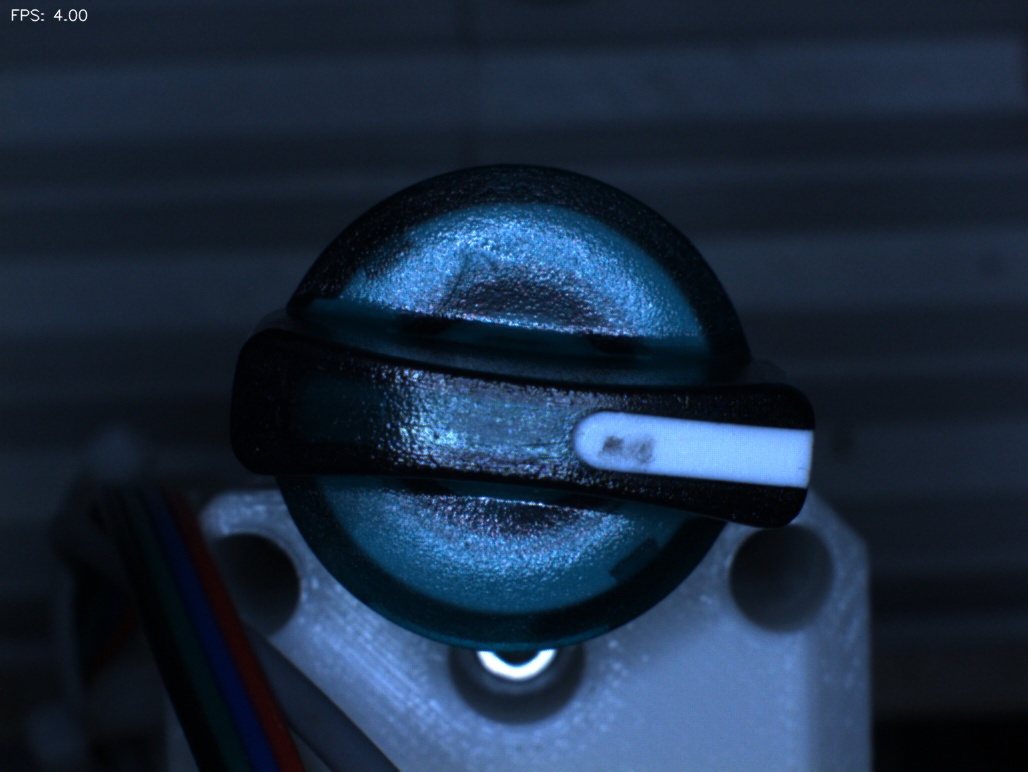PointNoir: (577, 400, 679, 505)
